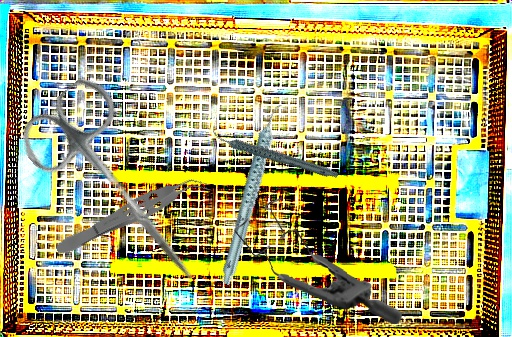Handpiece: (186, 102, 321, 287), (210, 105, 340, 203)
Iris Scissors: (10, 70, 235, 309)
Speculum: (228, 195, 409, 325)
Tissue Forceps: (51, 166, 212, 263)
